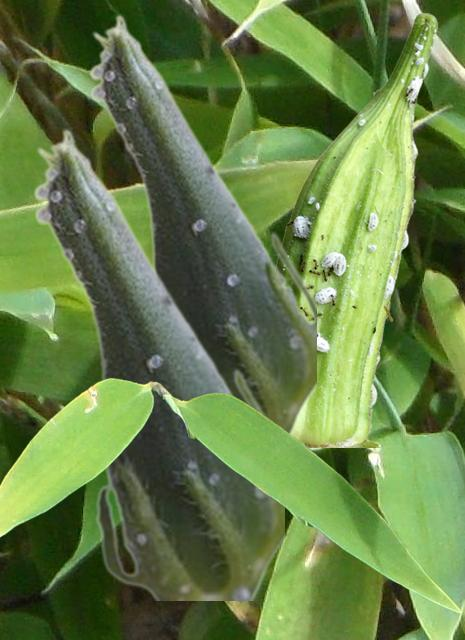okra: (32, 128, 283, 599), (88, 14, 315, 434), (275, 13, 437, 446)
